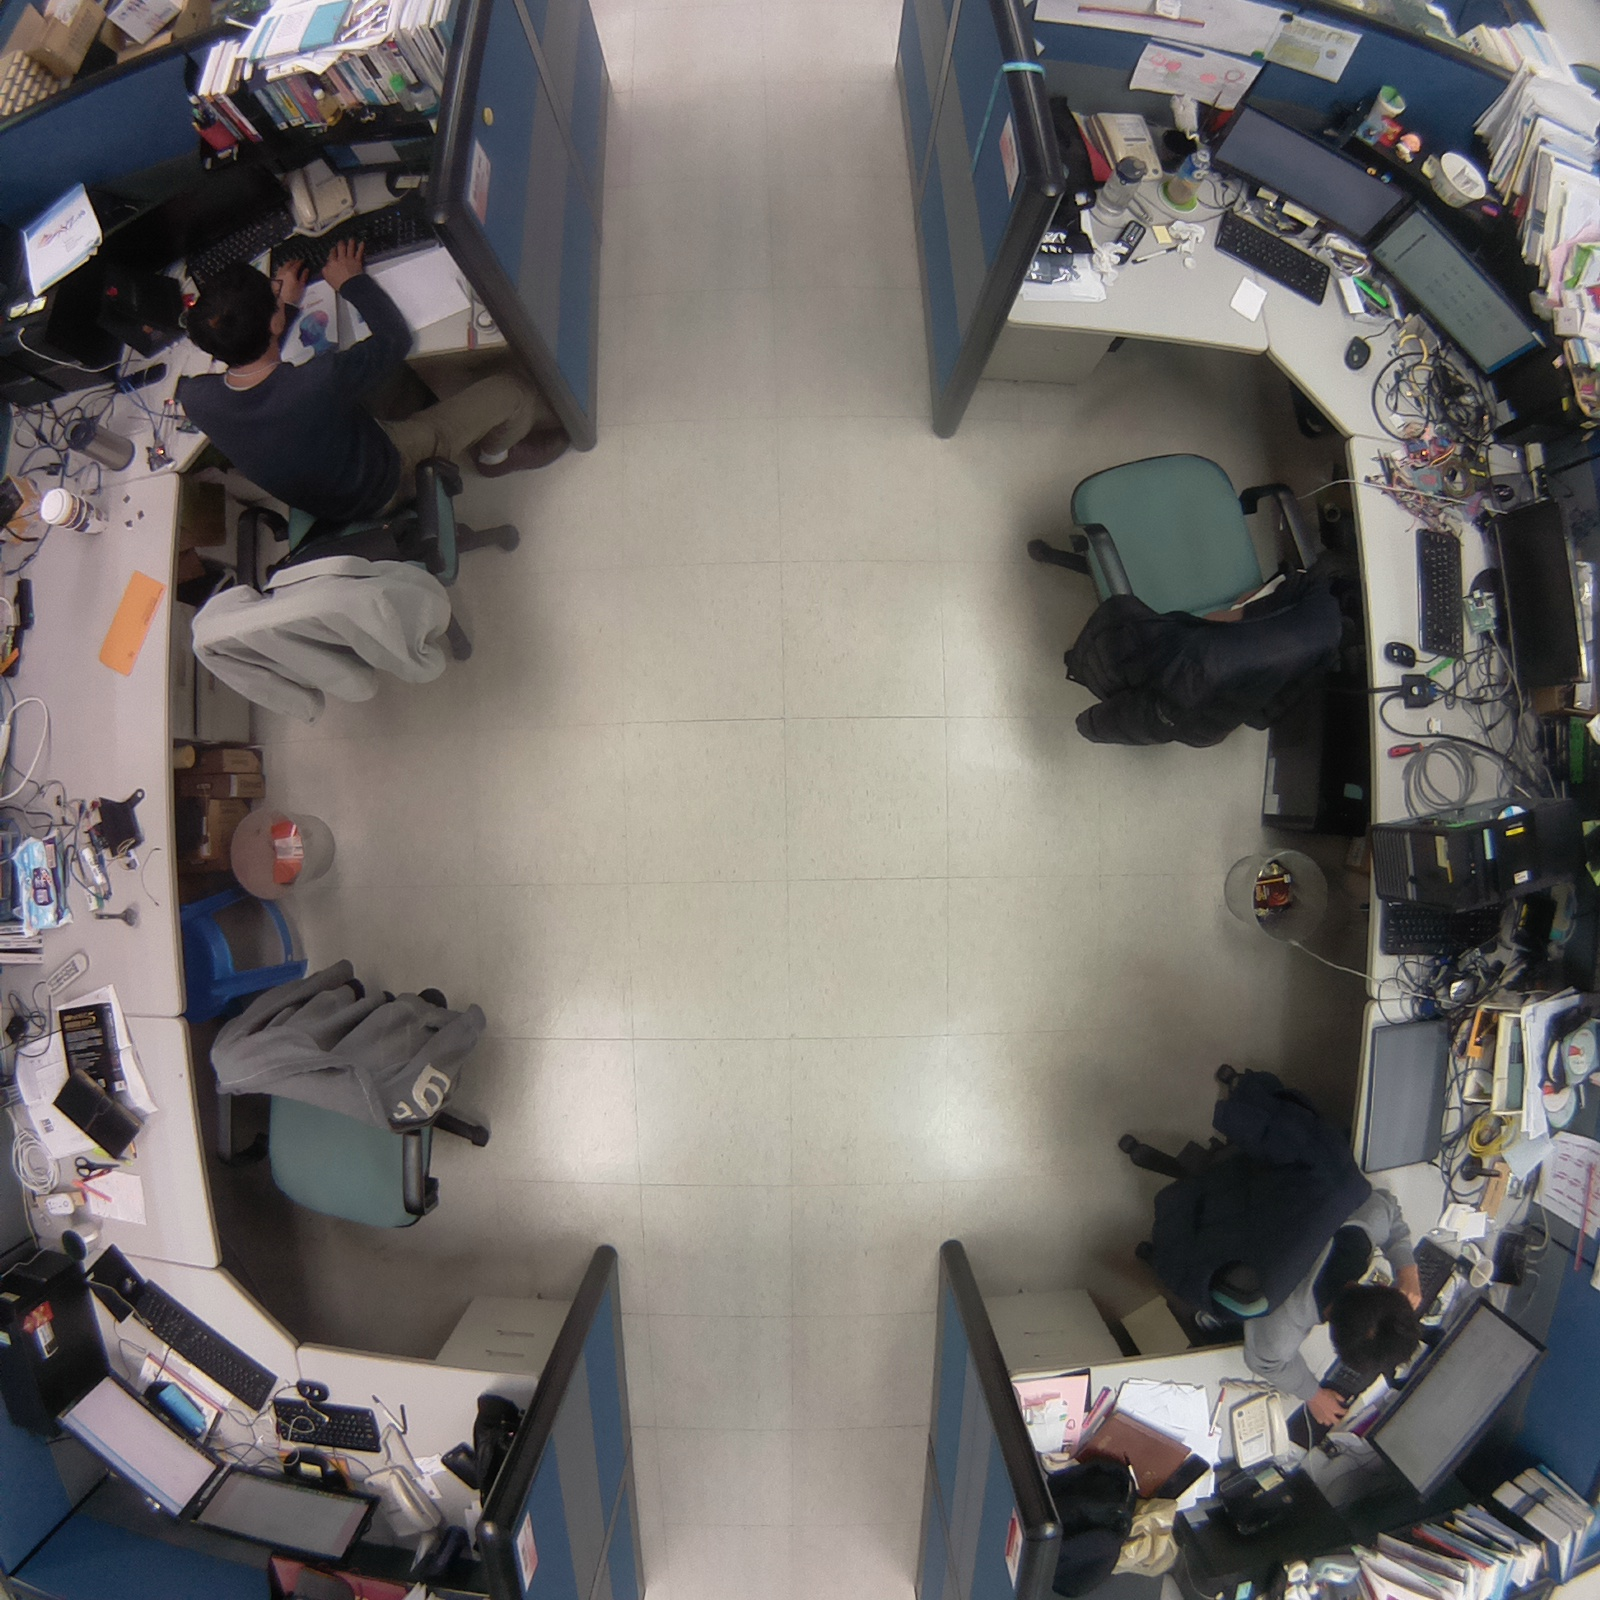chair: (1004, 434, 1392, 774), (199, 942, 519, 1256)
sitting: (154, 215, 538, 736), (1095, 1051, 1451, 1462)
